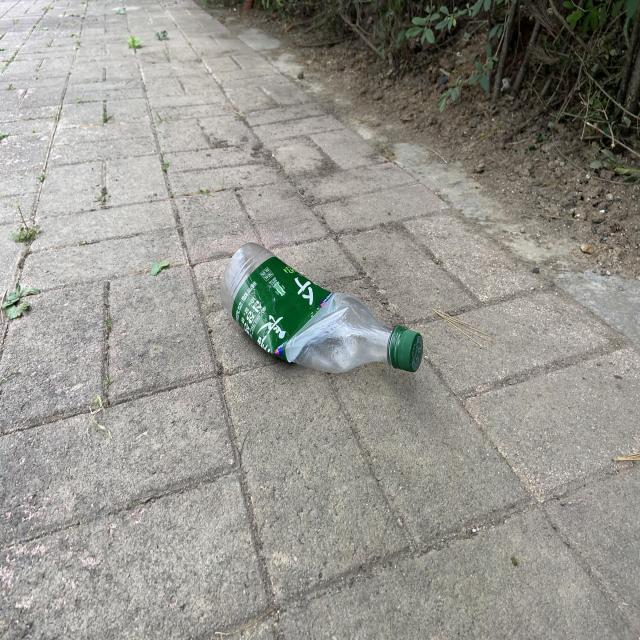plastic: (221, 242, 423, 372)
